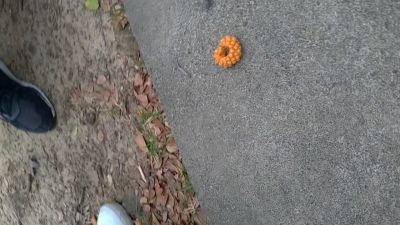eggs: (212, 34, 242, 69)
